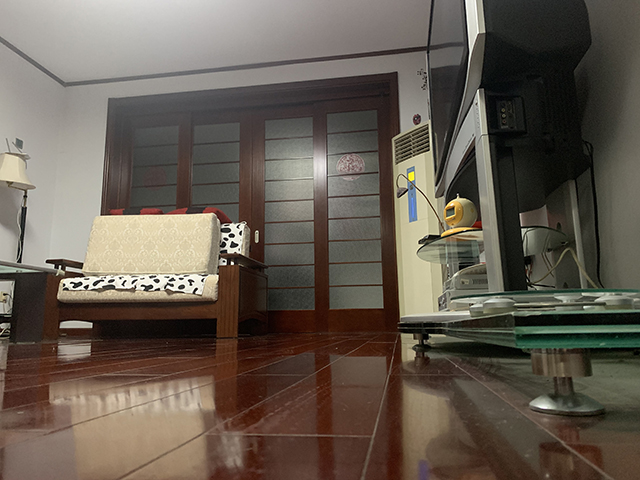cabinet: (395, 86, 640, 419)
sofa: (19, 205, 268, 342)
wire: (1, 198, 24, 337)
